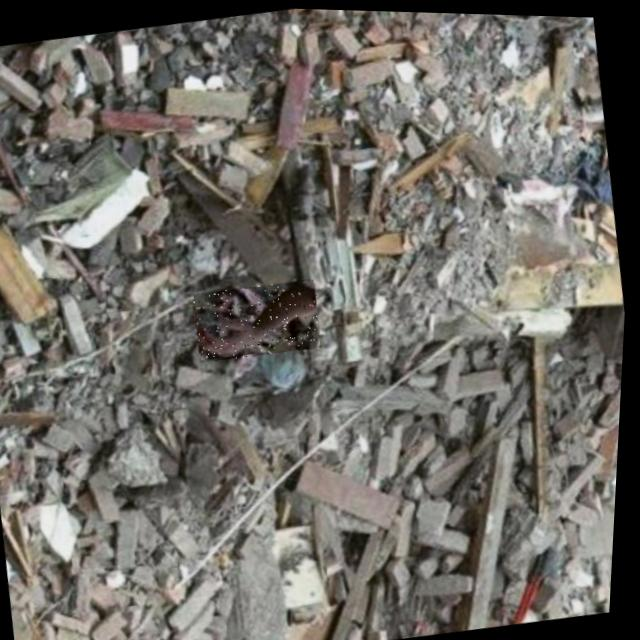Person in Rubble: (192, 274, 327, 364)
